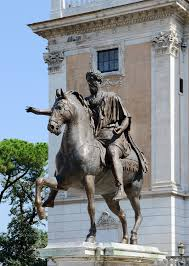person-like: (79, 66, 138, 203)
